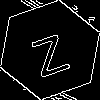Z: (25, 25, 72, 78)
